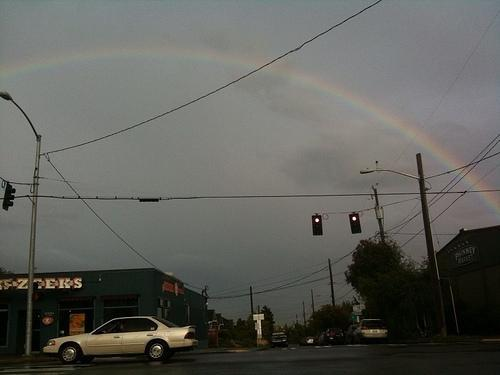car: (44, 312, 203, 364), (350, 318, 390, 345), (270, 332, 288, 348)
